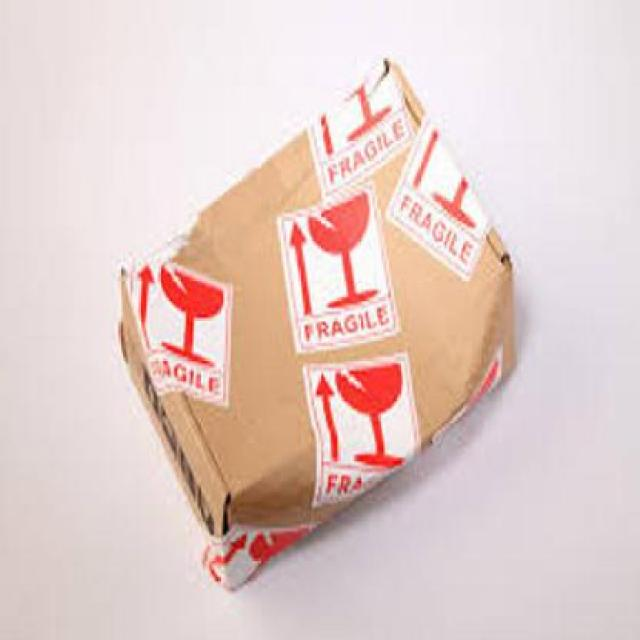defect: (106, 55, 525, 588)
